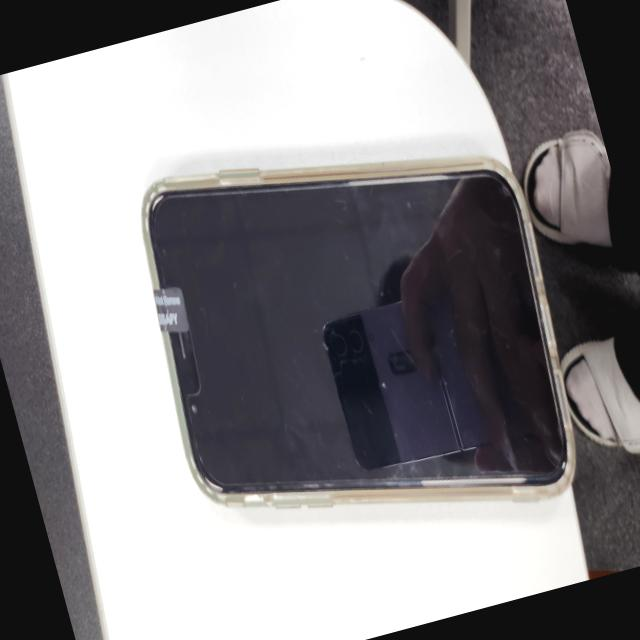phone: (115, 89, 600, 592)
sticker: (147, 280, 191, 337)
